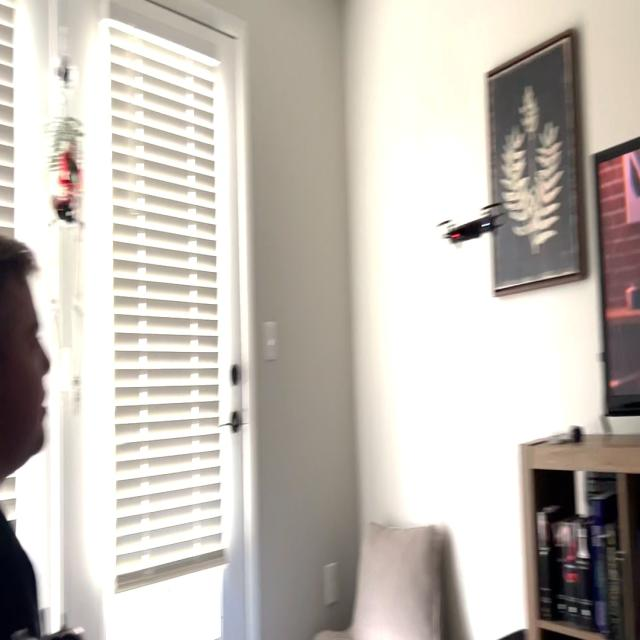drone: (432, 194, 518, 254)
